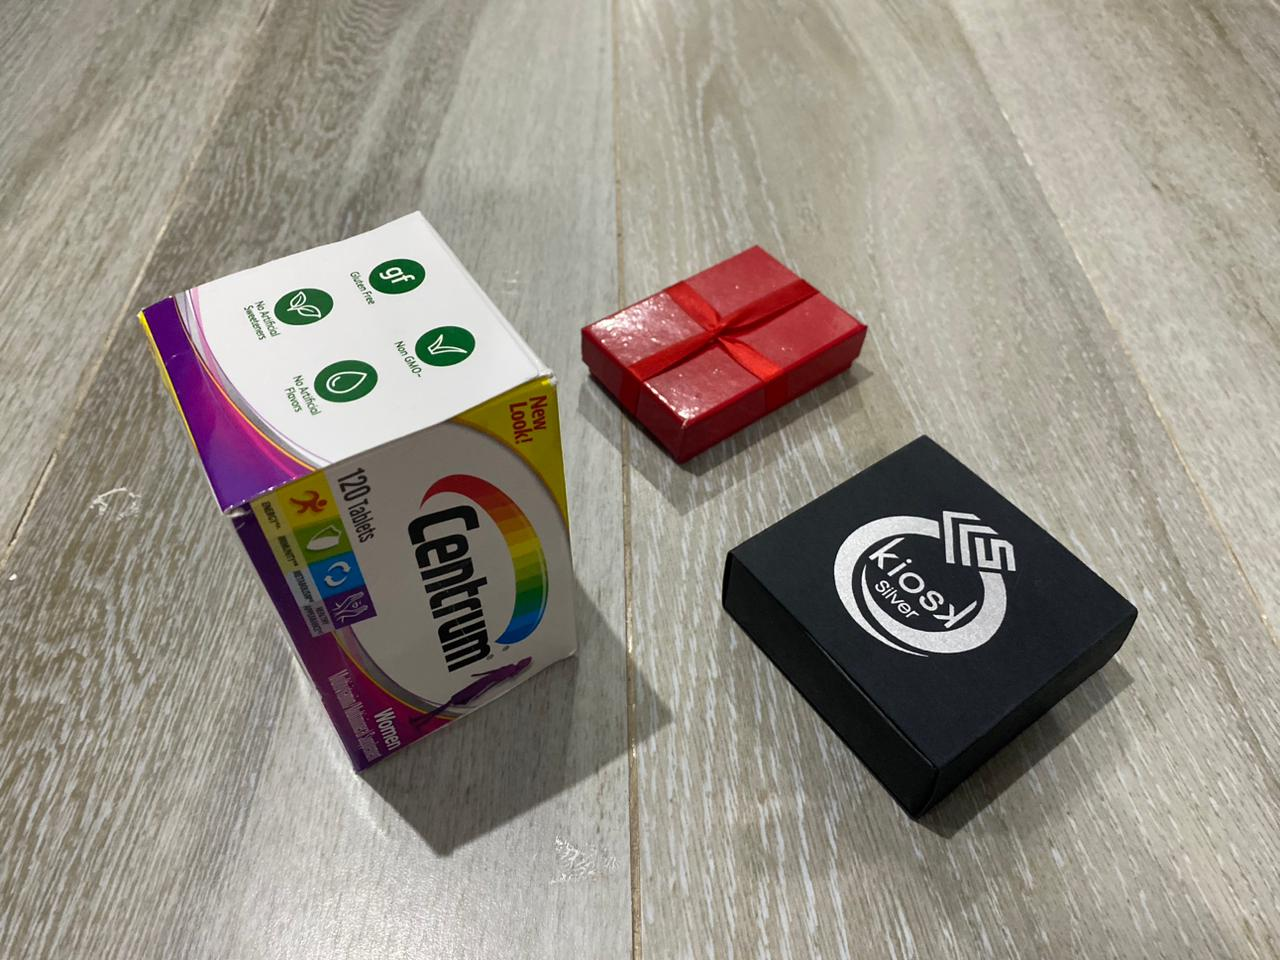Black Box: (578, 238, 870, 471)
Centrum: (135, 201, 583, 775)
Red Box: (720, 432, 1142, 821)
